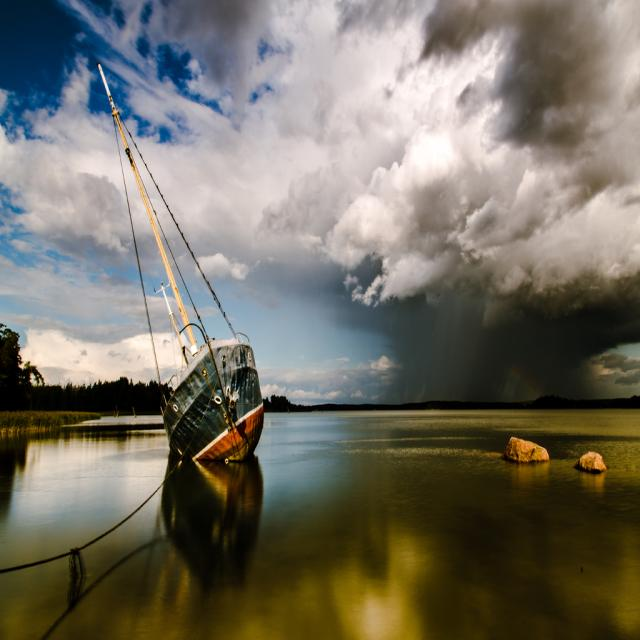Boat: (96, 51, 265, 467)
